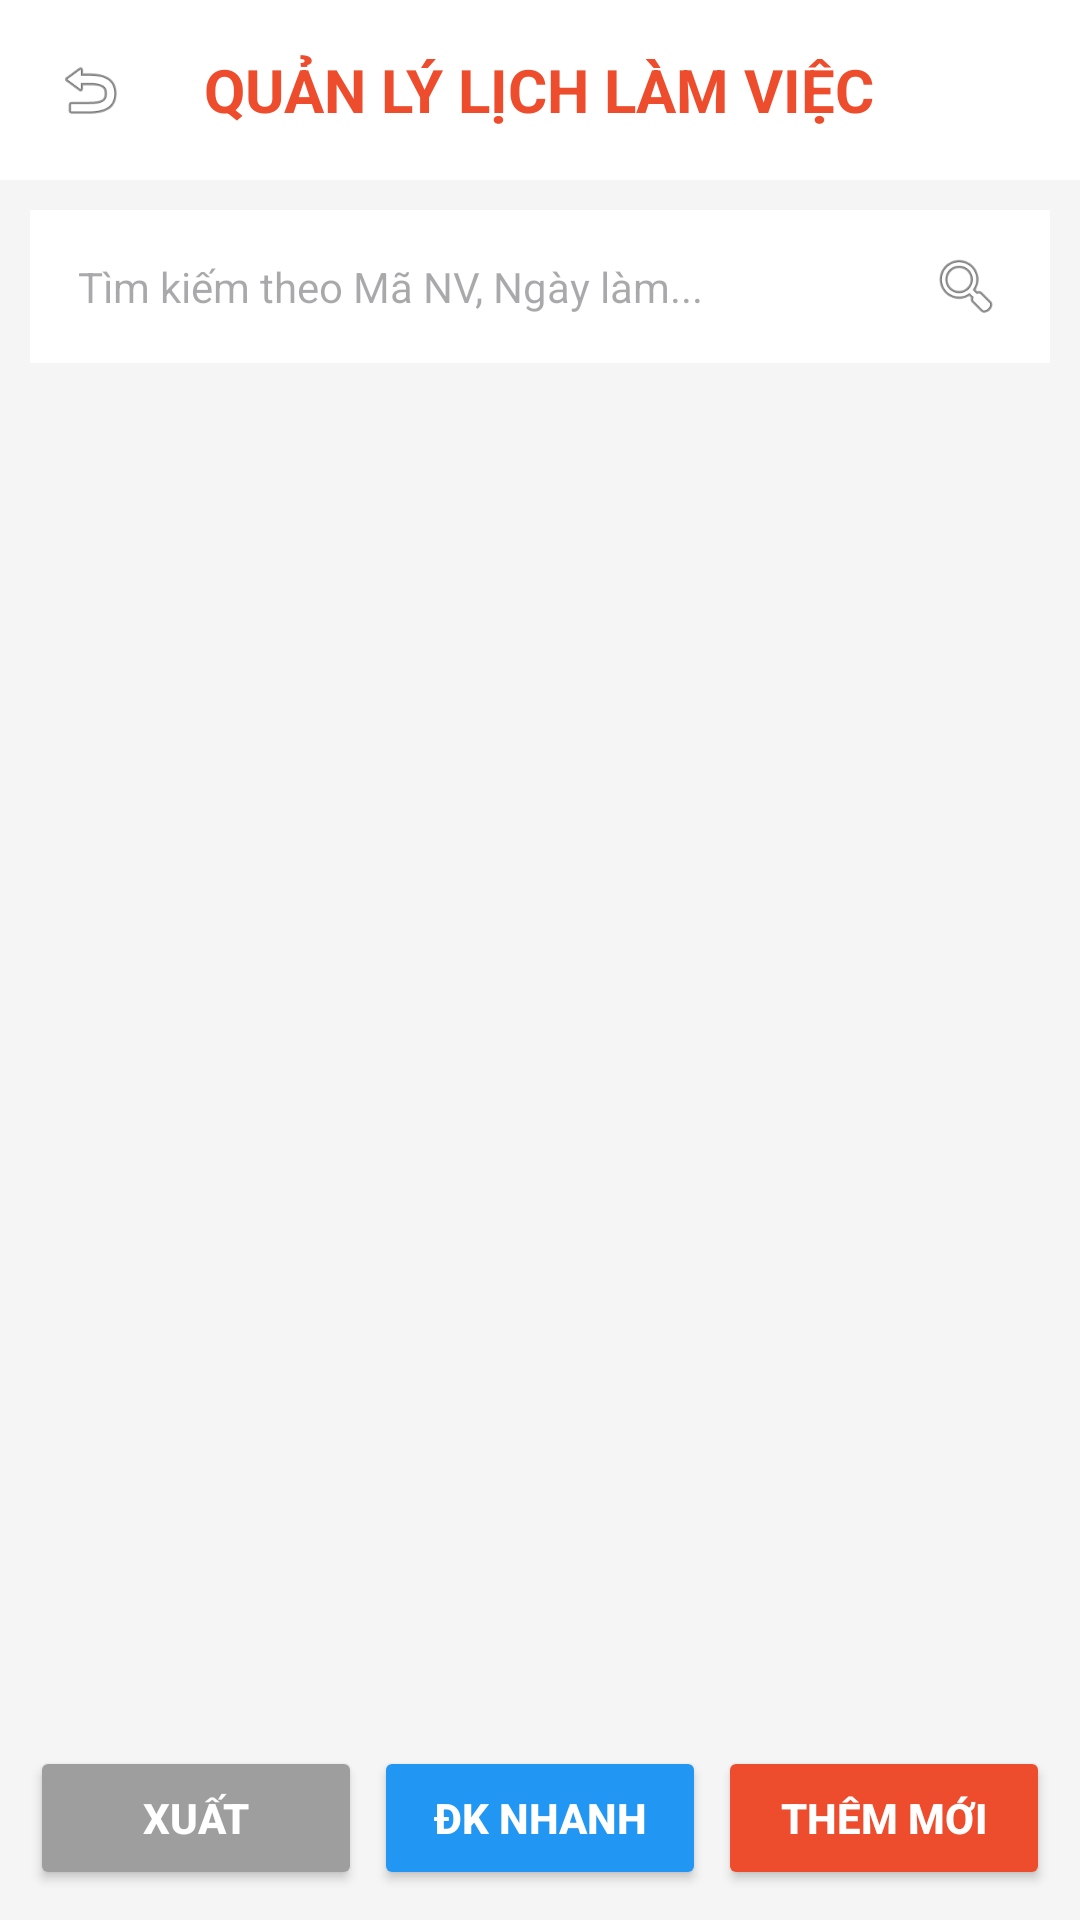

Icon click points for this 1080*1920 phone screenshot, format (x=x, y=y):
Quay lại: (x=91, y=90)
